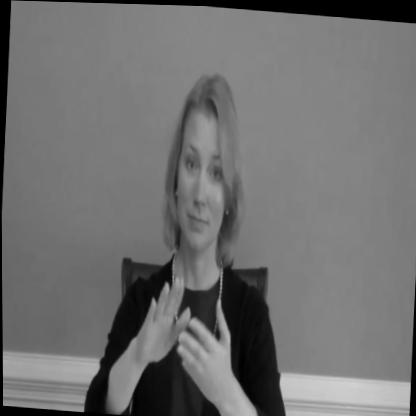NiceToMeetYou: (92, 65, 304, 416)
